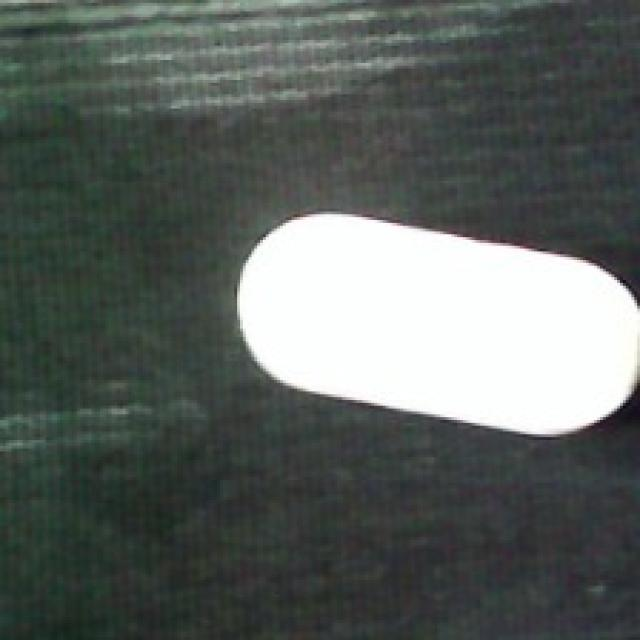no-defect: (231, 205, 640, 442)
